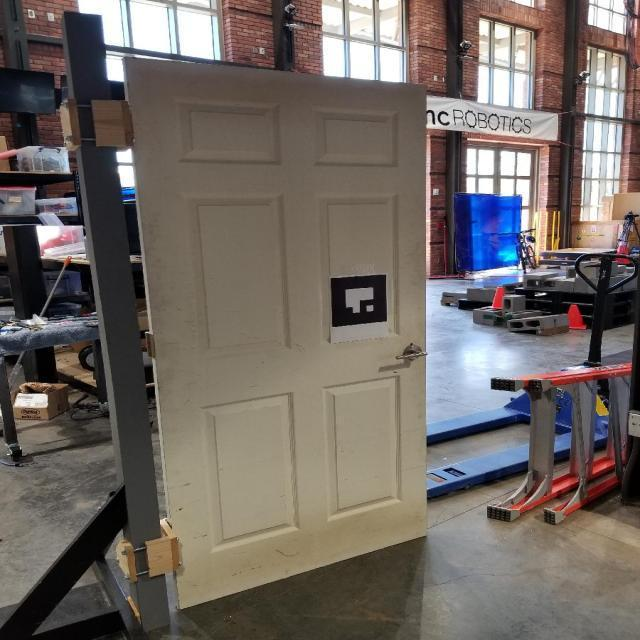door: (118, 52, 433, 610), (388, 342, 431, 372)
